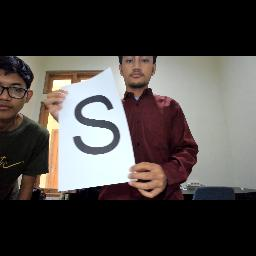s: (71, 93, 123, 157)
